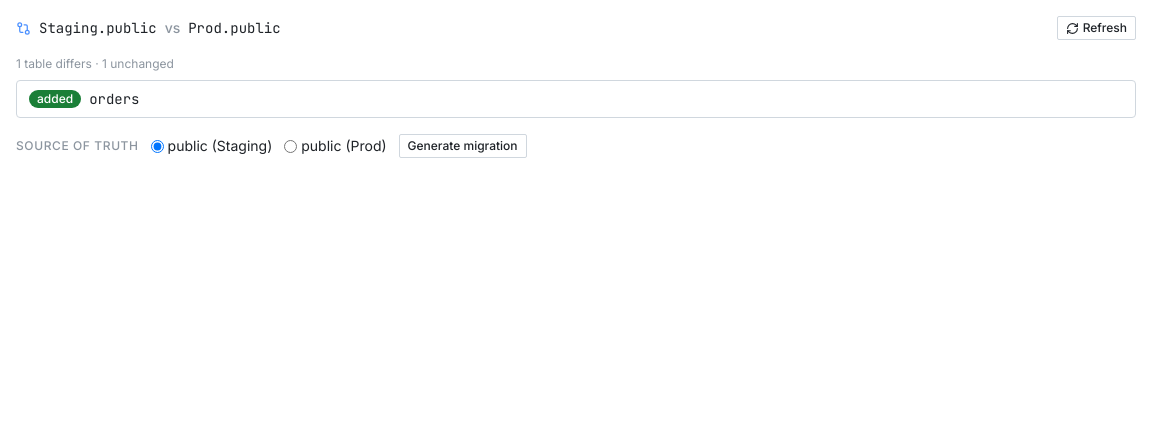
Test: SchemaDiffView › generates a migration and defaults destructive changes to unchecked
Click the button "Generate migration" at (463, 146), box x1=399 y1=134 x2=527 y2=158
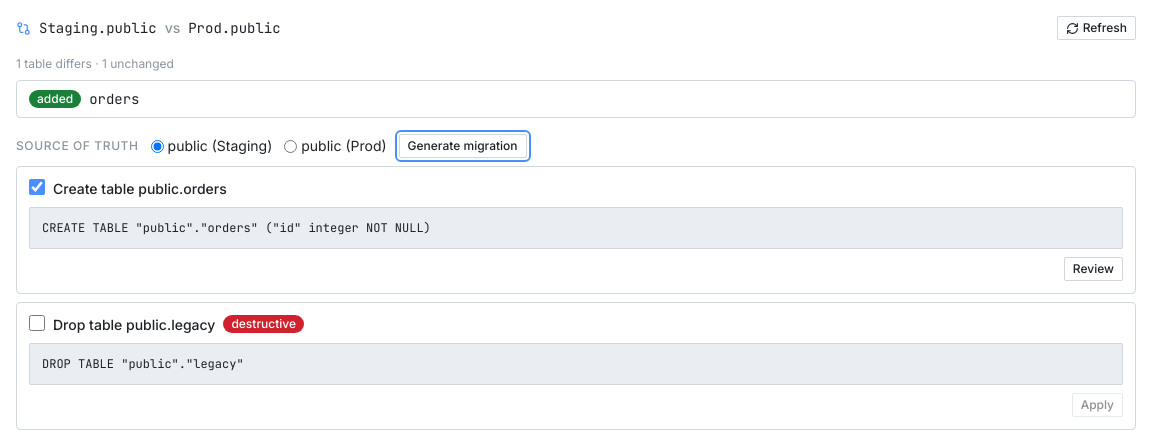
Check: the checkbox named "Include: Create table public.orders" is checked, box x1=29 y1=179 x2=45 y2=195
Check: the checkbox named "Include: Drop table public.legacy" is not checked, box x1=29 y1=315 x2=45 y2=331
